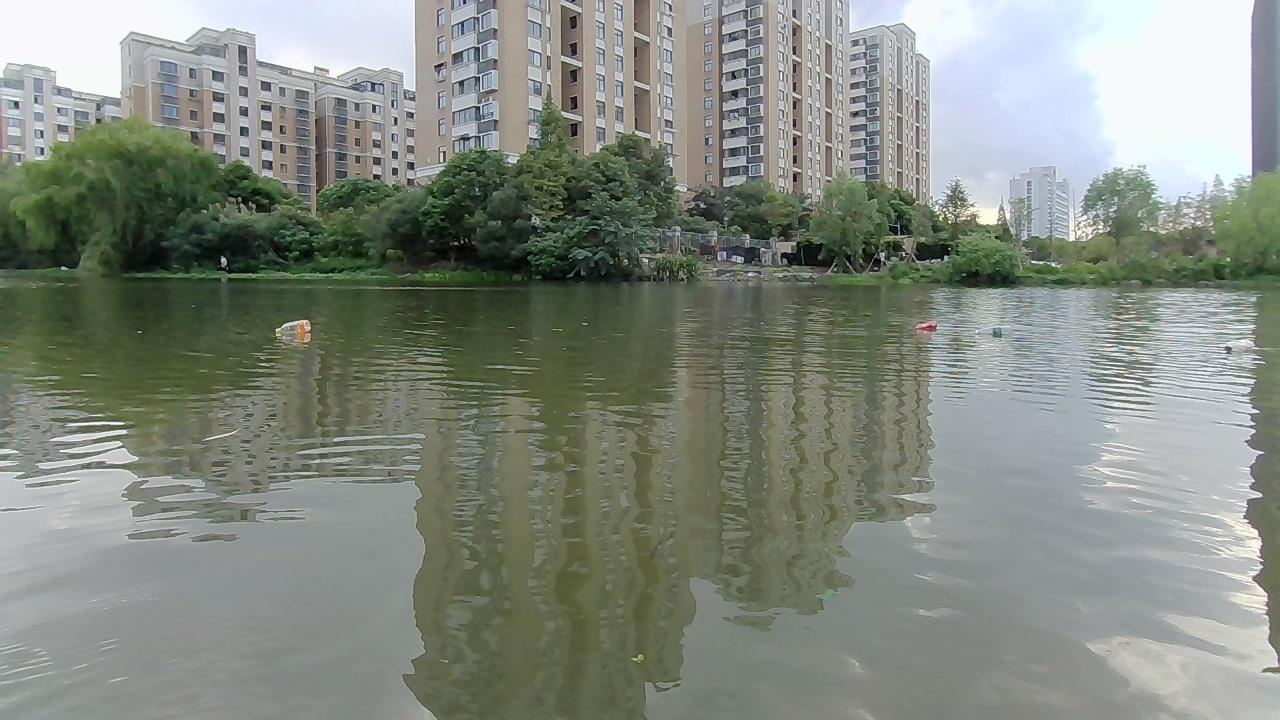bottle: (273, 318, 312, 340), (971, 320, 1011, 338), (1221, 335, 1256, 353), (909, 318, 937, 337)
